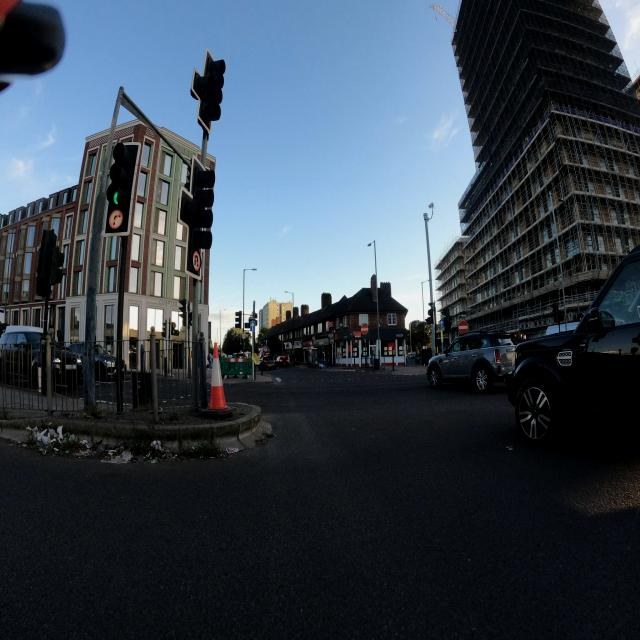car: (505, 227, 640, 458), (426, 332, 517, 393), (0, 324, 83, 390), (262, 356, 276, 370), (276, 354, 290, 368)
